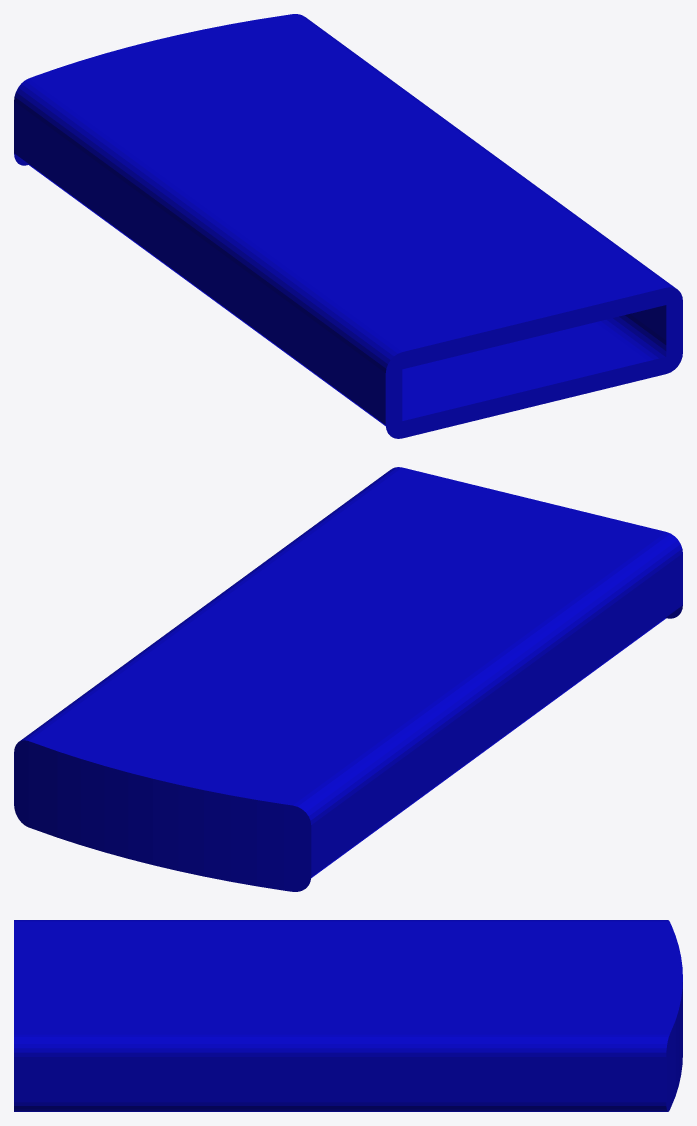
Rendered from original-6.obj.
3 renders of one model, top to bottom at view 1: azimuth 30°, elevation 25°; view 2: azimuth 150°, elevation 25°; view 3: azimuth 270°, elevation 25°, orthographic. The views are drawn at different scales.
Visible parts, largest first — view 1: #ID59; view 2: #ID59; view 3: #ID59.
Boxes of the visible parts, bbox=[...] form: #ID59: bbox=[14, 14, 682, 438]; #ID59: bbox=[14, 467, 682, 891]; #ID59: bbox=[14, 920, 682, 1111].
Bounding box in the file's own units: 0.4471 × 0.1242 × 0.9936.
